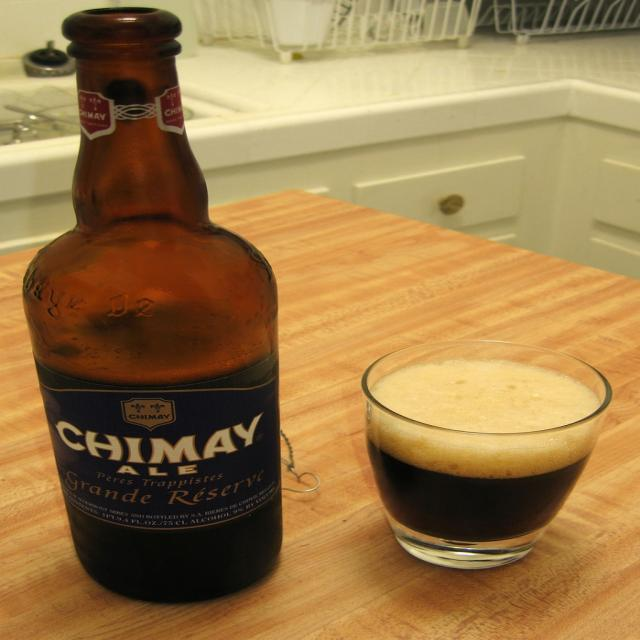chimay: (40, 382, 282, 532)
